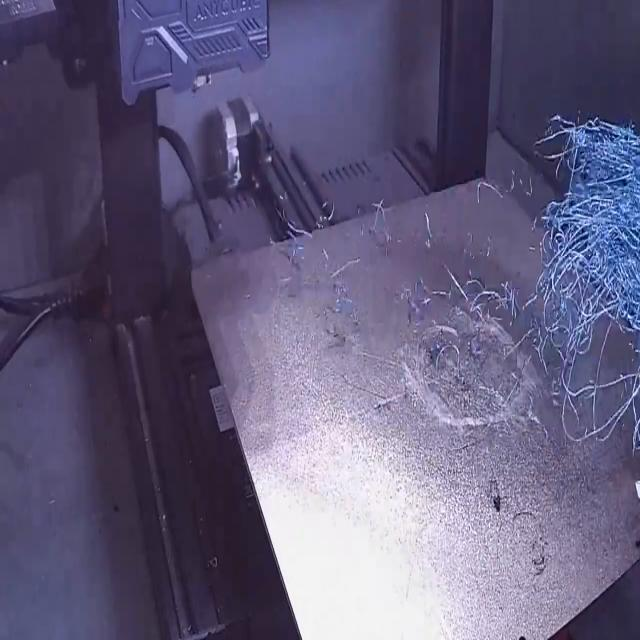spaghetti: (535, 117, 640, 478), (461, 262, 522, 327), (271, 207, 317, 276), (431, 330, 478, 393), (363, 190, 400, 266), (471, 164, 507, 215), (328, 276, 357, 338), (485, 461, 516, 516), (370, 387, 404, 436), (402, 278, 436, 323), (414, 203, 438, 256), (511, 161, 536, 202)
